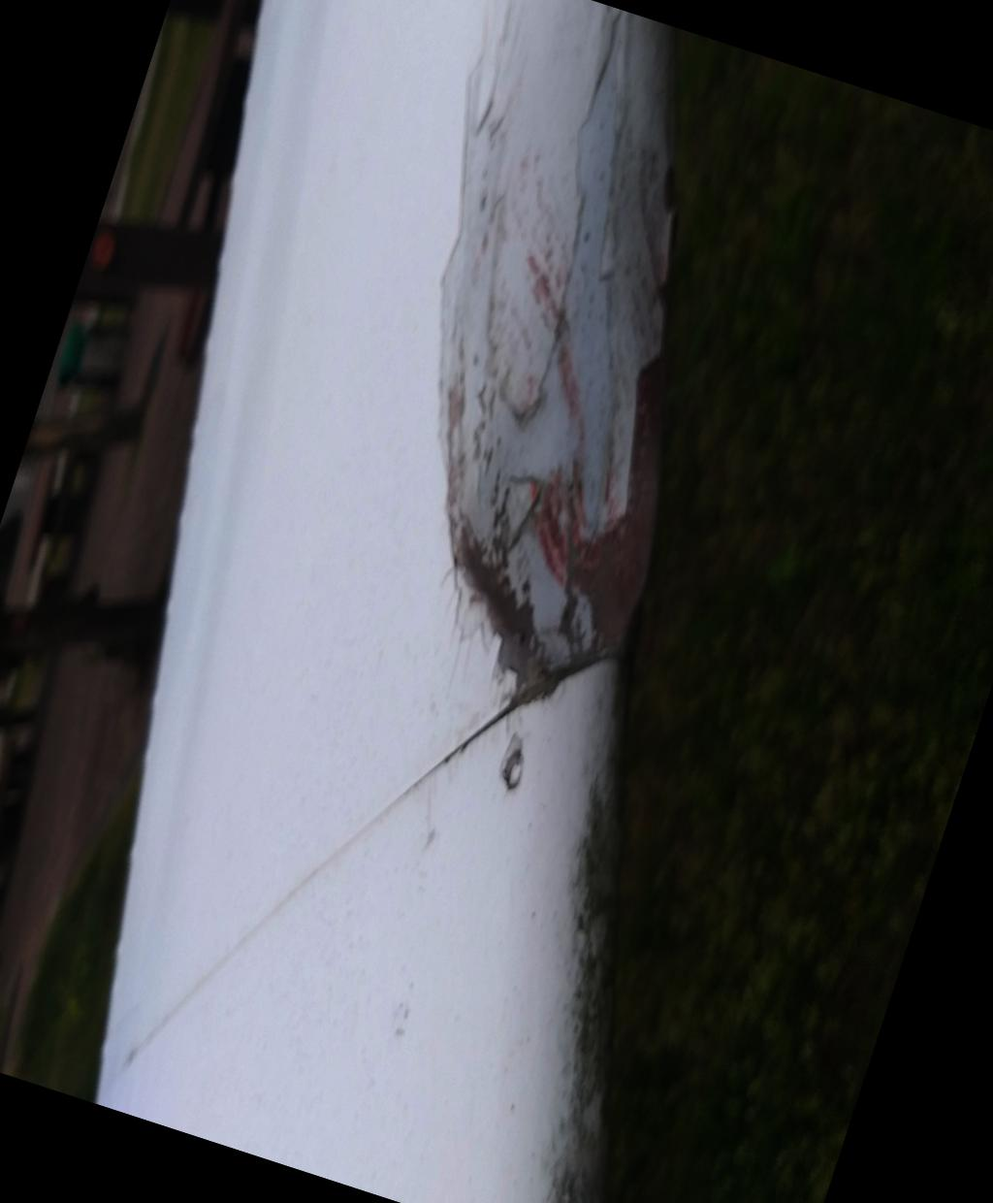corrosion: (112, 0, 473, 296)
